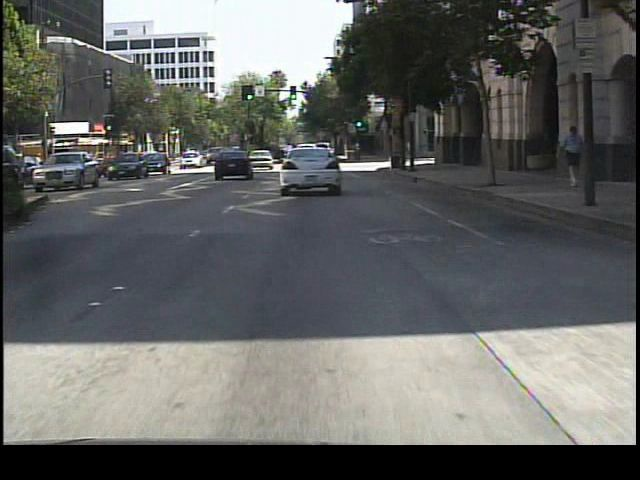person: (557, 121, 583, 192)
